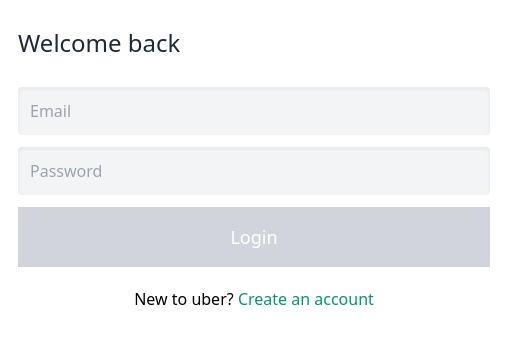
Test: <Login /> › displays email validation errors
In the field with placeholder "Email": (254, 111) [18,87,490,135], type "this@wont"
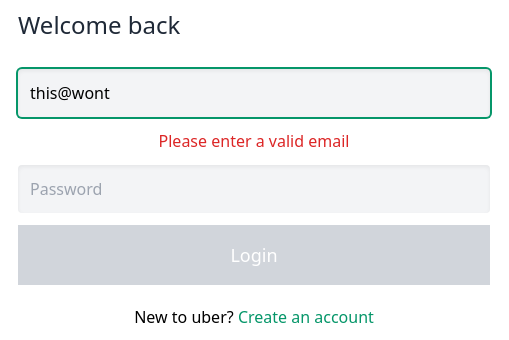
Now the message reads "Please enter a valid email", box [159,130,350,152]
Clear the field with placeholder "Email": (254, 93) [18,69,490,117]
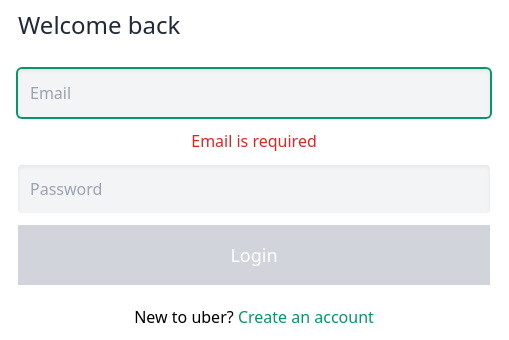
Now the message reads "Email is required", box [191,130,317,152]
